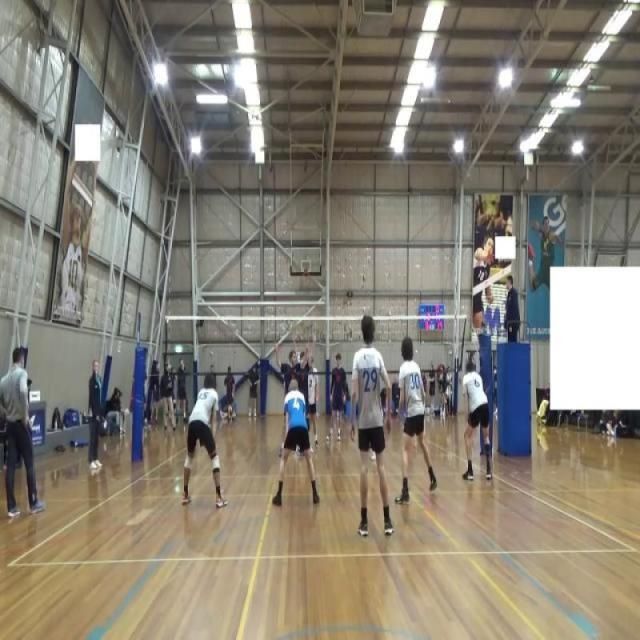volleyball: (228, 404, 232, 414)
